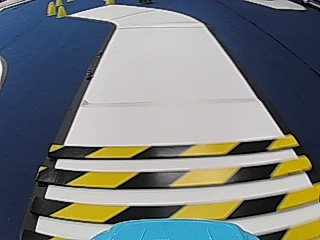bump: (64, 138, 288, 219)
